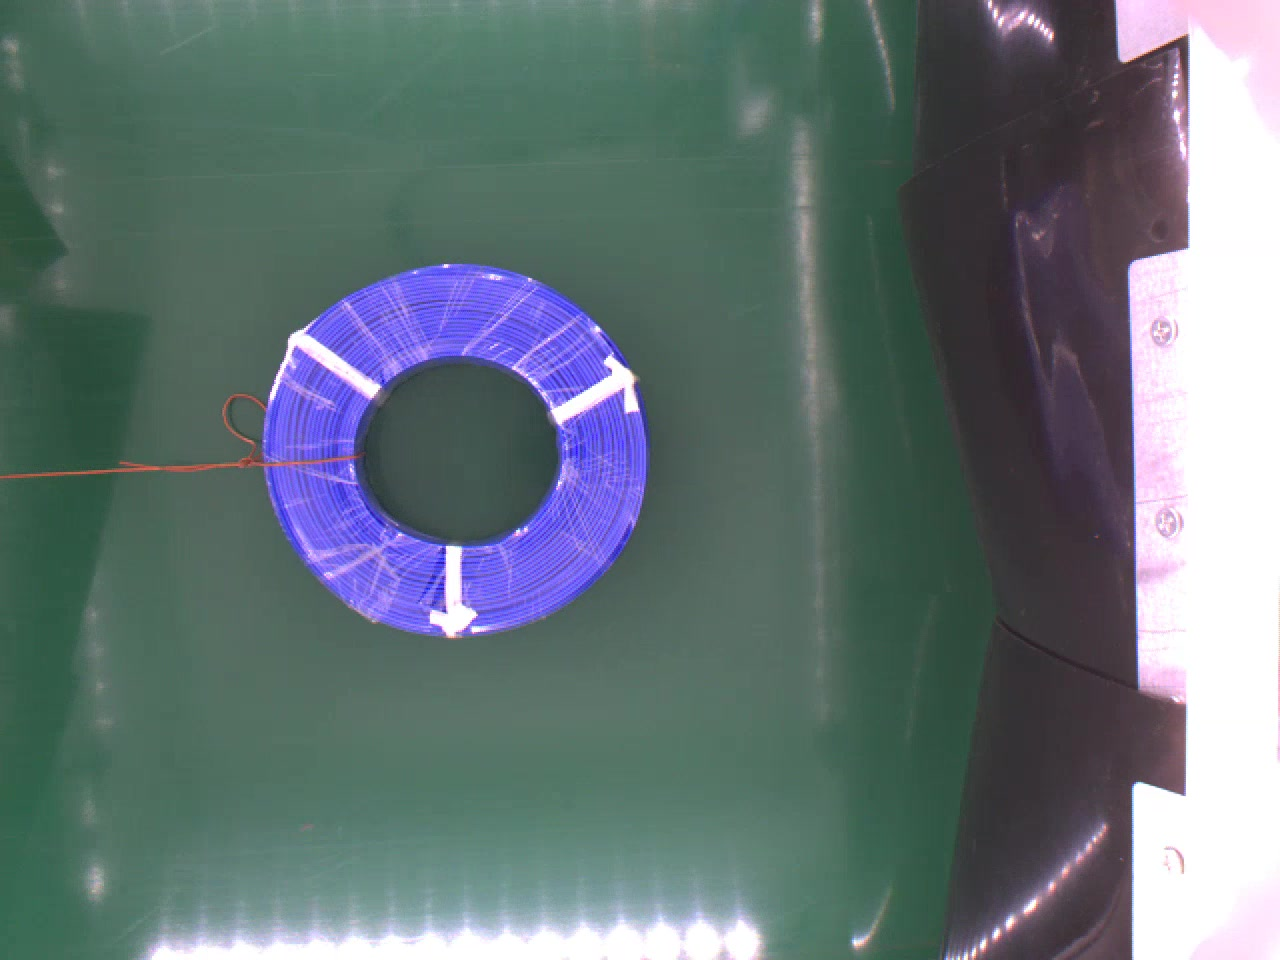blue: (261, 259, 647, 644)
